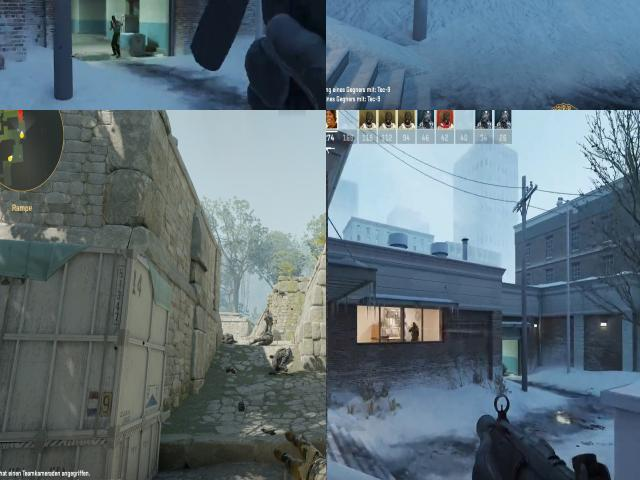CT: (262, 306, 276, 339), (410, 321, 420, 340)
CT-Head: (264, 307, 272, 315), (410, 322, 417, 331)
Dead: (264, 418, 326, 480), (263, 347, 297, 378), (249, 332, 275, 347), (221, 333, 236, 345)
T: (110, 12, 121, 40)
T-Head: (111, 14, 118, 22)
